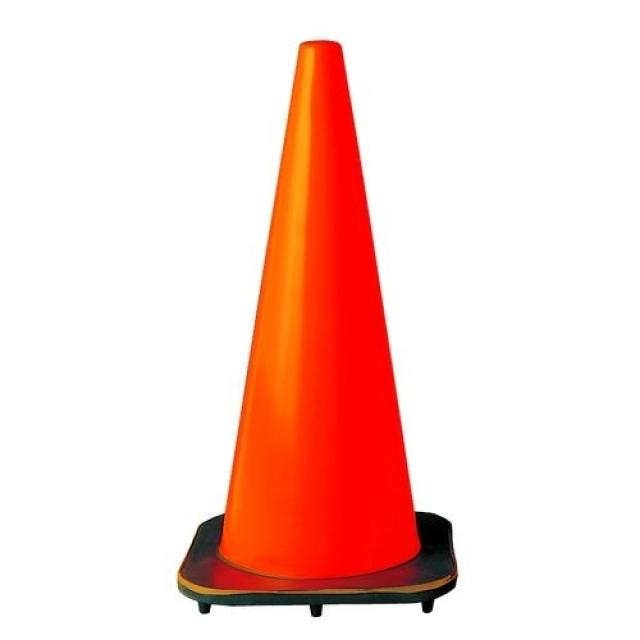traffic cone: (168, 33, 474, 623)
